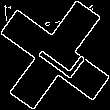L_NW: (25, 28, 85, 82)
